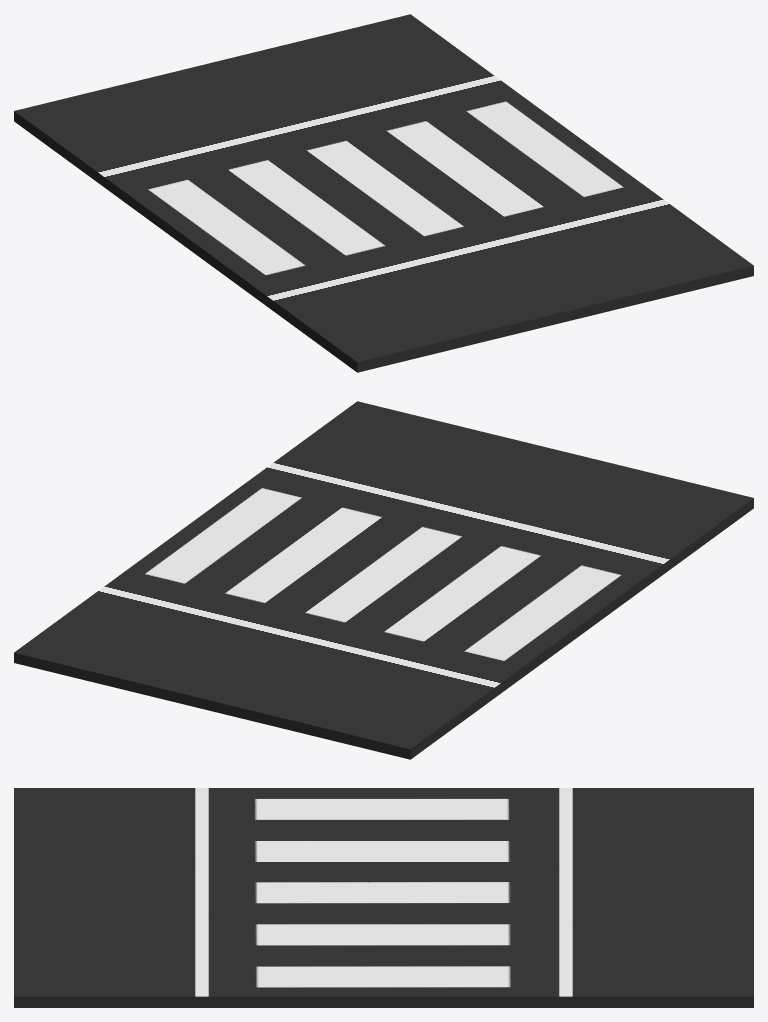
File: Road_Cross.fbx
3 views of the same model, one above another, from view 1: azimuth 30°, elevation 25°; view 2: azimuth 150°, elevation 25°; view 3: azimuth 270°, elevation 25° (orthographic). The views are drawn at different scales.
Parts seen in each view (by area): view 1: plainRoad2; view 2: plainRoad2; view 3: plainRoad2.
Boxes of the visible parts, <box> form: plainRoad2: <box>14,14,753,372</box>; plainRoad2: <box>14,401,753,759</box>; plainRoad2: <box>14,788,753,1007</box>.
Bounding box in the file's own units: 2 × 0.05 × 3.
Materials: 1 (1 with a texture image).
